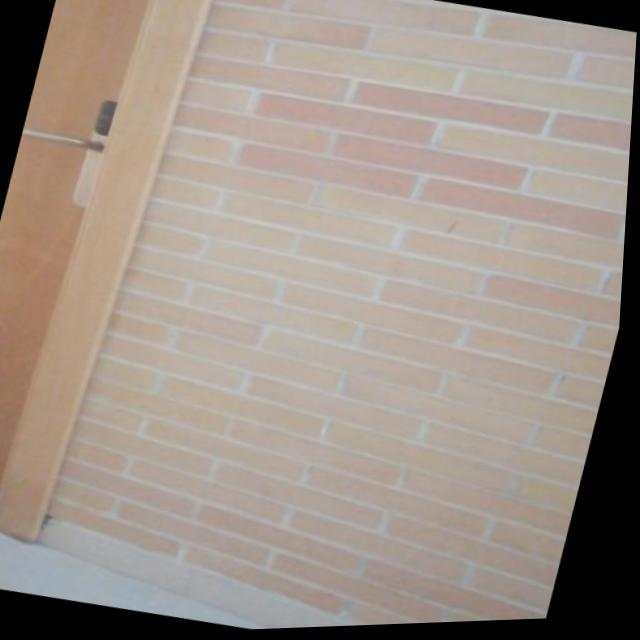door_handle: (21, 122, 106, 160)
